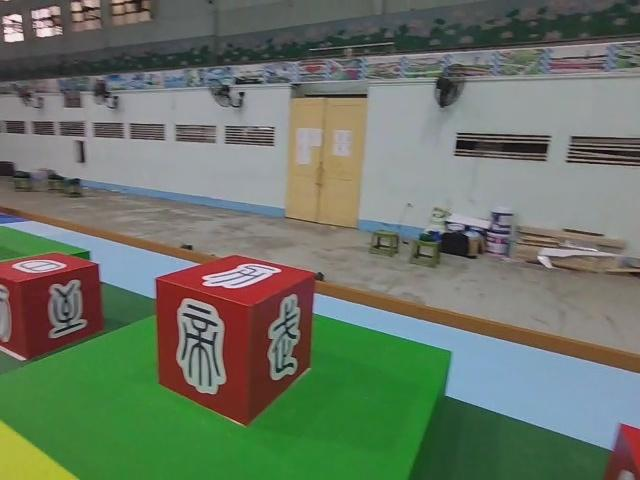R2 Fake: (154, 251, 316, 428), (0, 249, 106, 361)
